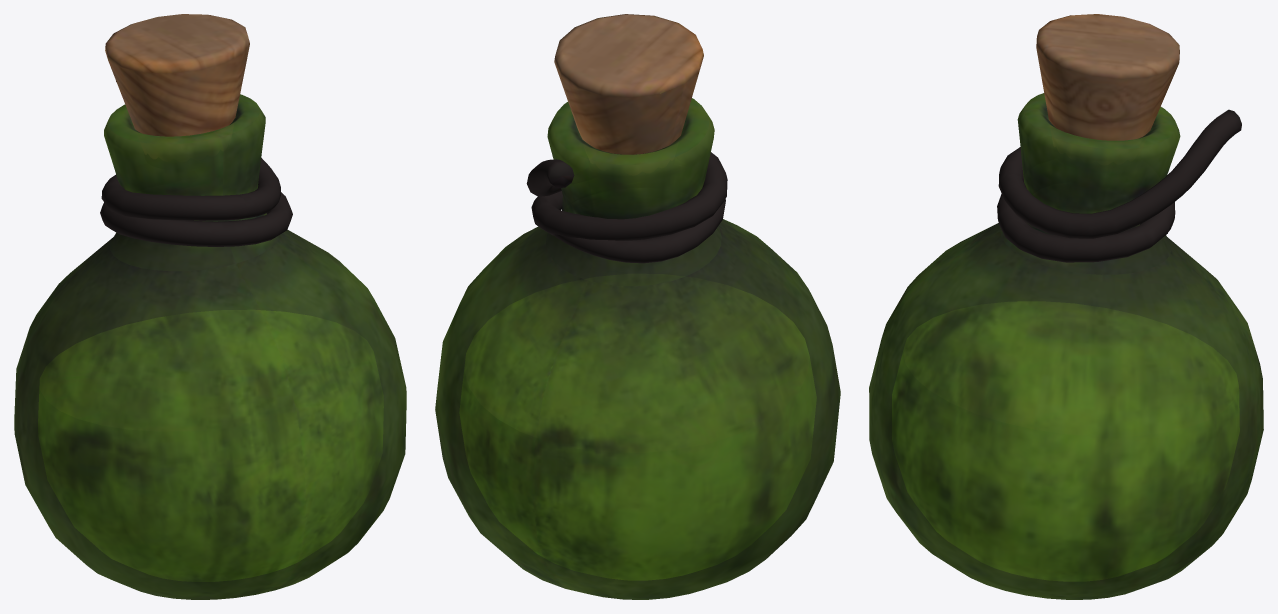
File: Potion.glb
3 views of the same model, side by side, from view 1: azimuth 30°, elevation 25°; view 2: azimuth 150°, elevation 25°; view 3: azimuth 270°, elevation 25° (orthographic). The views are drawn at different scales.
Parts seen in each view (by area): view 1: Character.001; view 2: Character.001; view 3: Character.001.
Part boxes in pixels (x1=…): Character.001: x1=14, y1=14, x2=406, y2=599; Character.001: x1=435, y1=14, x2=840, y2=599; Character.001: x1=869, y1=14, x2=1263, y2=599.
Size of the model in its own units: 0.1238 by 0.1841 by 0.1231.
1 material, 1 textured.
